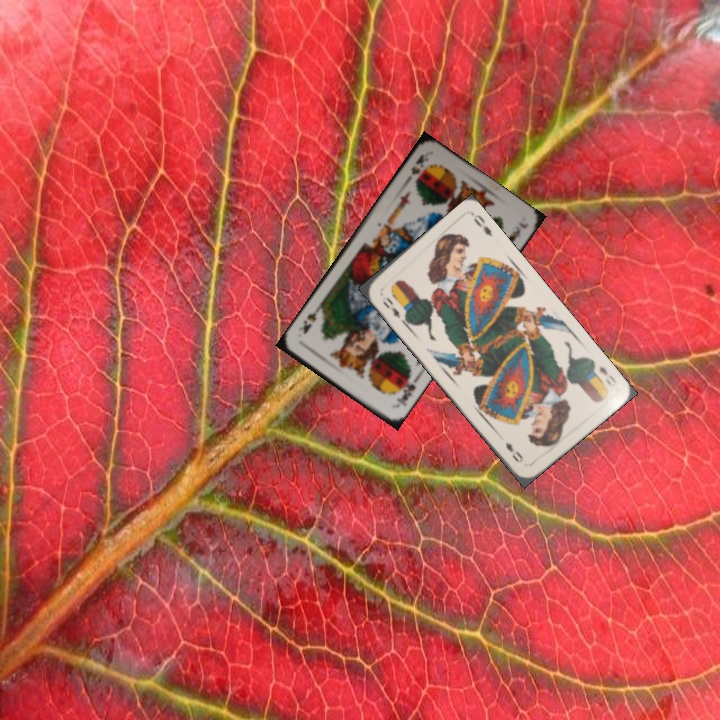EO: (378, 292, 403, 321), (595, 362, 619, 389)
SK: (390, 371, 419, 410), (407, 150, 431, 177)
